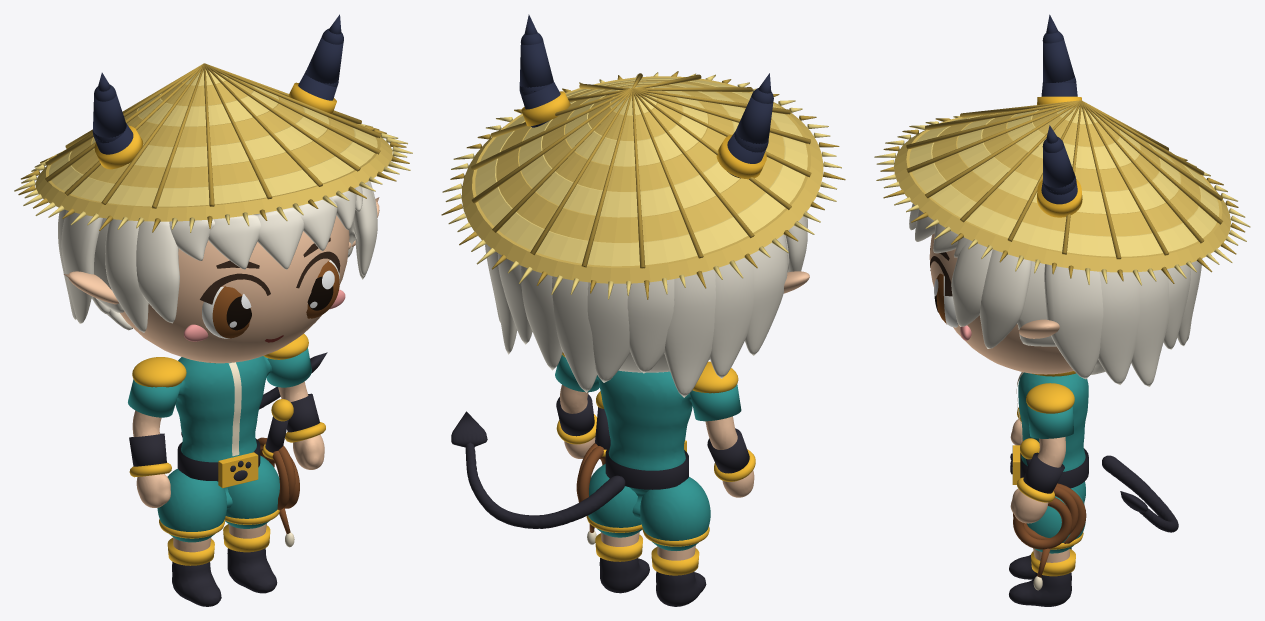
The model's file is osa.glb.
3 views of the same model, side by side, from view 1: azimuth 30°, elevation 25°; view 2: azimuth 150°, elevation 25°; view 3: azimuth 270°, elevation 25° (orthographic). The views are drawn at different scales.
Parts seen in each view (by area): view 1: meches, crane, tunique, cone, cone_bord, cone.001, cone.002, cone.003, short_jambe, cone.004, short_jambe.001, botte.001 (+41 smaller); view 2: meches, cone, cone_bord, cone.001, tunique, cone.002, cone.003, cone.004, short_jambe, queue, cone.005, short_jambe.001 (+31 smaller); view 3: meches, cone, cone.001, cone_bord, cone.002, cone.003, crane, tunique, cone.004, queue, cheveux, botte.001 (+27 smaller).
Boxes of the visible parts, x1,y1,x2,y2 form: meches: (58, 181, 377, 332); crane: (120, 215, 349, 363); tunique: (175, 356, 272, 462); cone: (49, 117, 377, 206); cone_bord: (35, 123, 392, 221); cone.001: (69, 117, 354, 187); cone.002: (92, 107, 329, 167); cone.003: (124, 96, 304, 147); short_jambe: (157, 468, 226, 542); cone.004: (138, 85, 278, 126); short_jambe.001: (225, 455, 279, 528); botte.001: (227, 548, 277, 593); meches: (485, 211, 807, 397); cone: (475, 78, 807, 266); cone_bord: (461, 76, 823, 283); cone.001: (496, 80, 784, 242); tunique: (596, 370, 692, 470); cone.002: (519, 81, 744, 217); cone.003: (542, 83, 733, 191); cone.004: (565, 85, 707, 166); short_jambe: (640, 477, 710, 550); queue: (465, 442, 625, 528); cone.005: (588, 87, 682, 140); short_jambe.001: (588, 464, 642, 537); meches: (909, 203, 1202, 386); cone: (909, 115, 1219, 256); cone.001: (932, 112, 1200, 236); cone_bord: (894, 117, 1230, 272); cone.002: (957, 111, 1180, 213); cone.003: (982, 114, 1160, 191); crane: (929, 233, 1073, 374); tunique: (1018, 372, 1088, 471); cone.004: (1007, 109, 1140, 169); queue: (1102, 455, 1178, 532); cheveux: (1017, 261, 1105, 374); botte.001: (1009, 572, 1071, 606).
Bounding box in the file's own units: 2.5 × 3.77 × 2.46.
